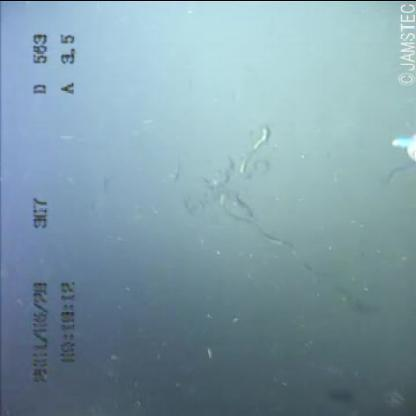Rov: (386, 126, 415, 162)
Rác: (150, 115, 300, 278)
